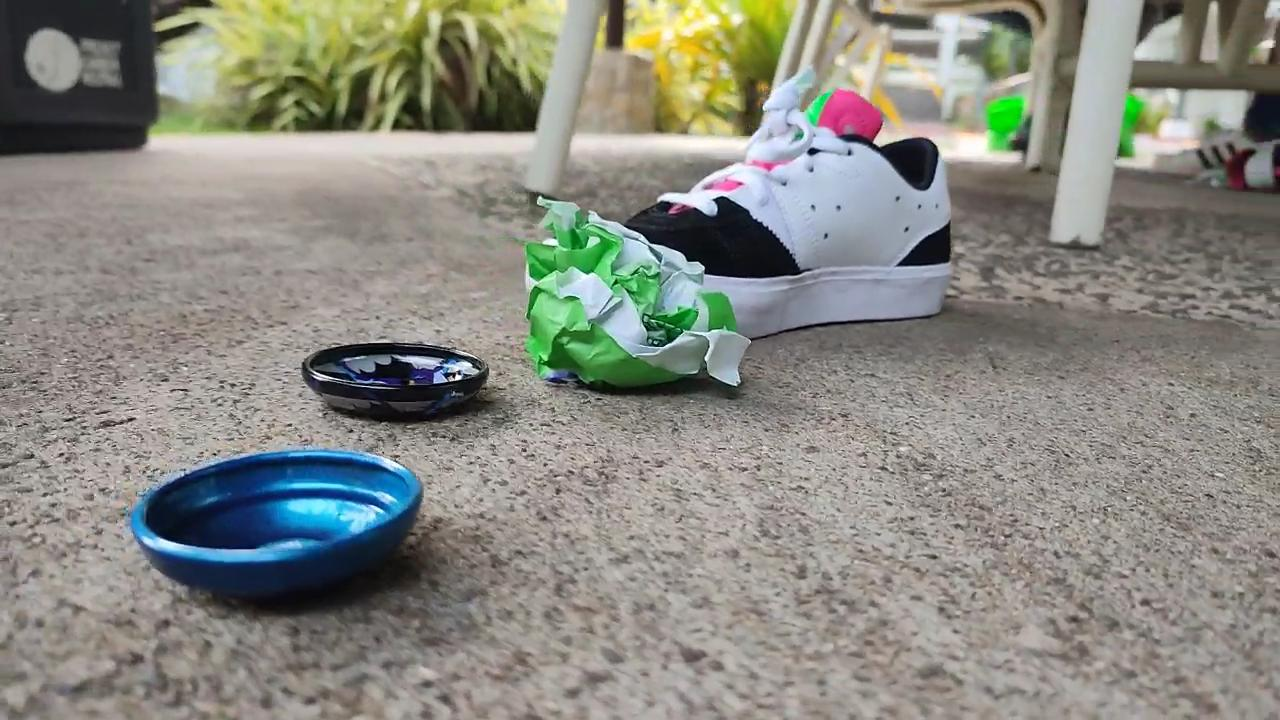Paper: (503, 180, 755, 407)
